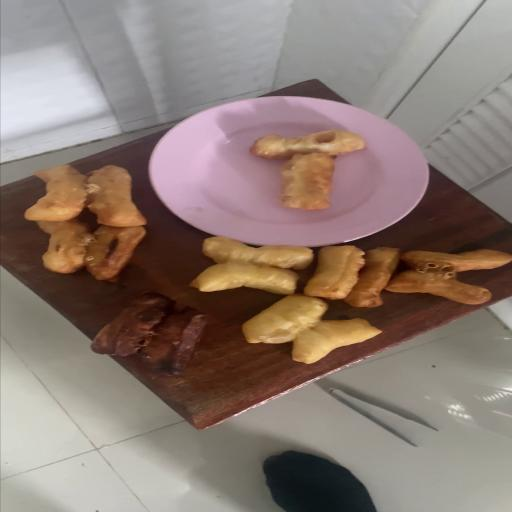street_burnt_defect: (0, 275, 299, 327), (32, 165, 146, 281), (343, 248, 512, 307), (91, 294, 209, 375), (250, 130, 365, 210), (45, 166, 78, 200), (243, 306, 273, 335)
street_golden_good: (190, 239, 381, 363)
